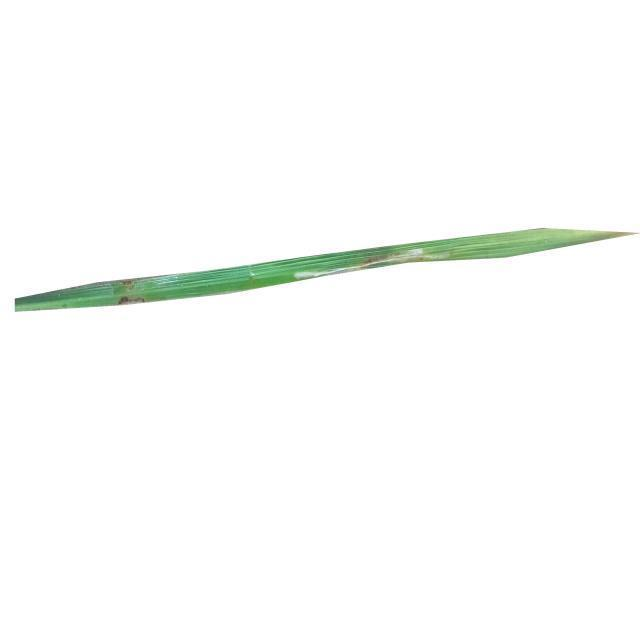Leaf_Blast: (113, 280, 147, 305)
